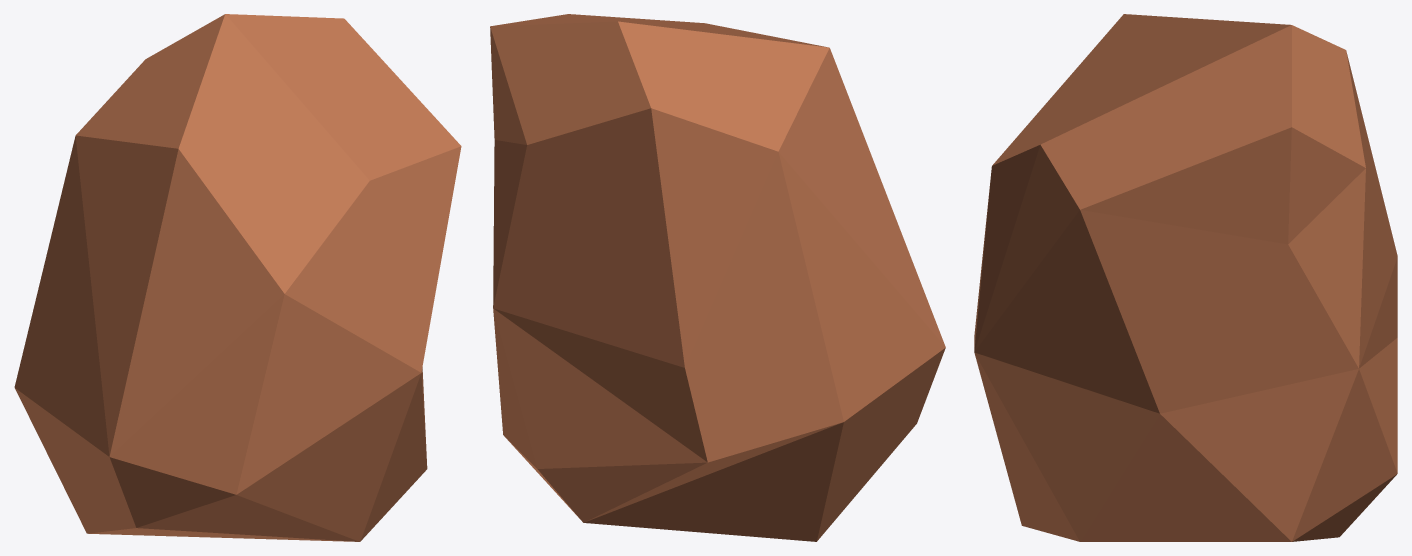
Rendered from Med_Rock_002.fbx.
The picture shows the model from 3 angles, left to right: view 1: azimuth 30°, elevation 25°; view 2: azimuth 150°, elevation 25°; view 3: azimuth 270°, elevation 25°; orthographic projection. The views are drawn at different scales.
Parts seen in each view (by area): view 1: Med_Rock_002; view 2: Med_Rock_002; view 3: Med_Rock_002.
Boxes of the visible parts, bbox=[...] form: Med_Rock_002: bbox=[14, 14, 461, 541]; Med_Rock_002: bbox=[490, 14, 945, 541]; Med_Rock_002: bbox=[974, 14, 1397, 541].
Size of the model in its own units: 2.03 by 2.55 by 1.9.
